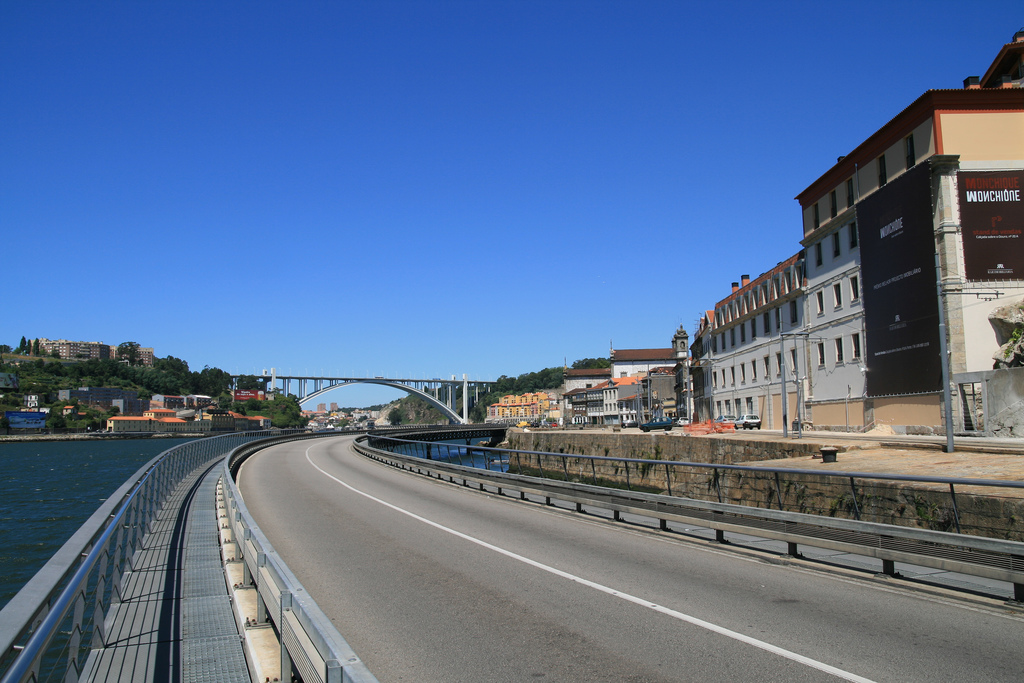arrabida: (227, 365, 498, 426)
